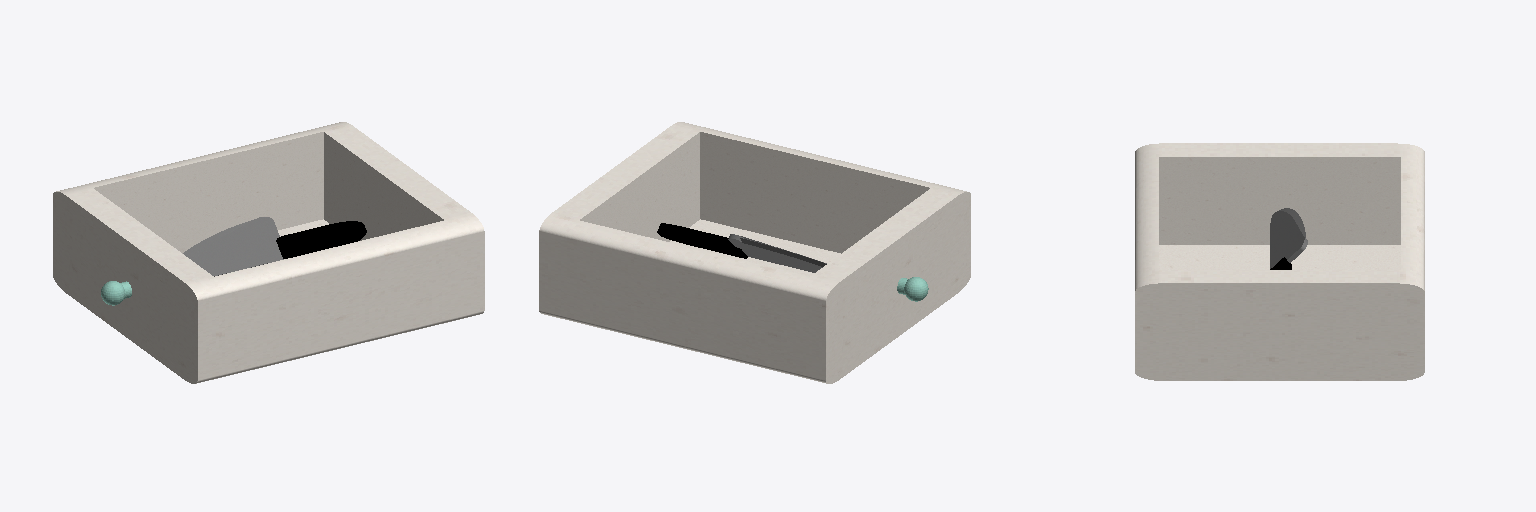
3 views of the same model, side by side, from view 1: azimuth 30°, elevation 25°; view 2: azimuth 150°, elevation 25°; view 3: azimuth 270°, elevation 25° (orthographic).
Parts seen in each view (by area): view 1: Cubo.009, Cubo.001; view 2: Cubo.009, Cubo.001; view 3: Cubo.009, Cubo.001.
Part boxes in pixels (x1,y1,x2,y2): Cubo.009: (53, 122, 484, 383); Cubo.001: (183, 217, 366, 276); Cubo.009: (539, 122, 970, 383); Cubo.001: (657, 223, 826, 272); Cubo.009: (1135, 143, 1424, 380); Cubo.001: (1270, 208, 1307, 269).
Size of the model in its own units: 5.96 by 1.78 by 4.79.
3 materials, 2 textured.